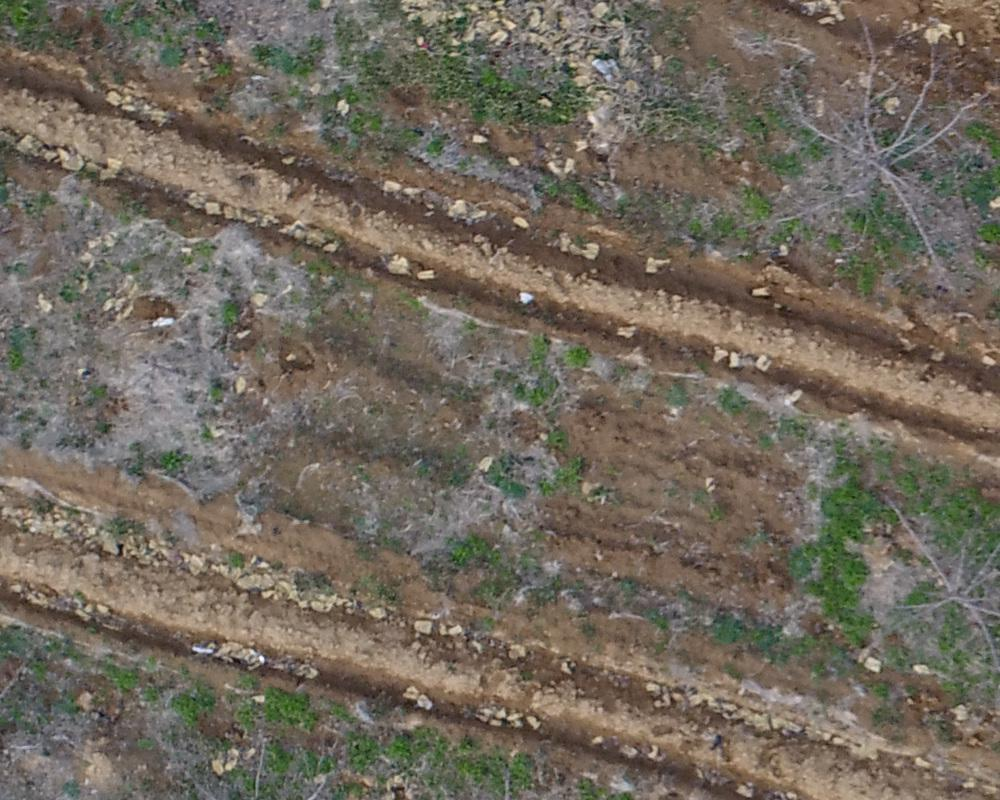apple: (714, 10, 986, 295), (836, 487, 990, 716), (162, 716, 329, 790)
